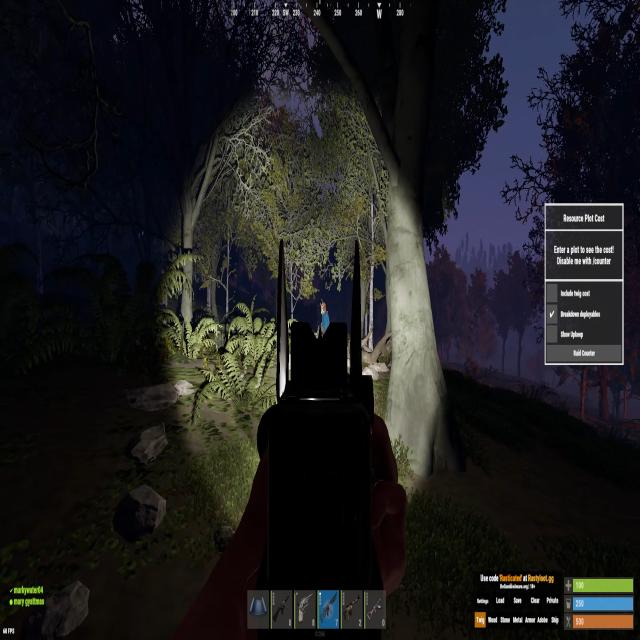Player: (317, 302, 330, 334)
